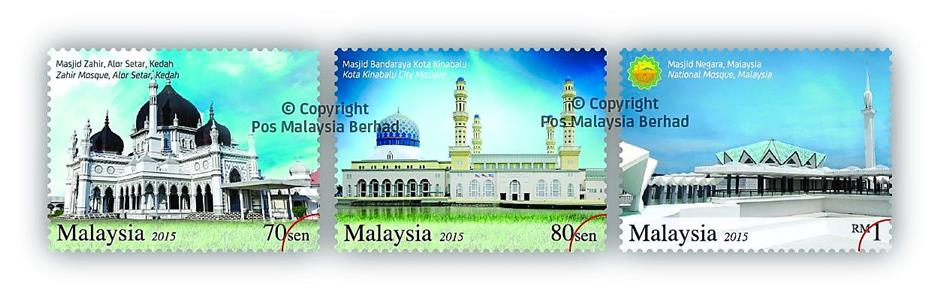Mosque: (345, 74, 589, 211), (53, 72, 264, 221), (670, 86, 876, 200)
